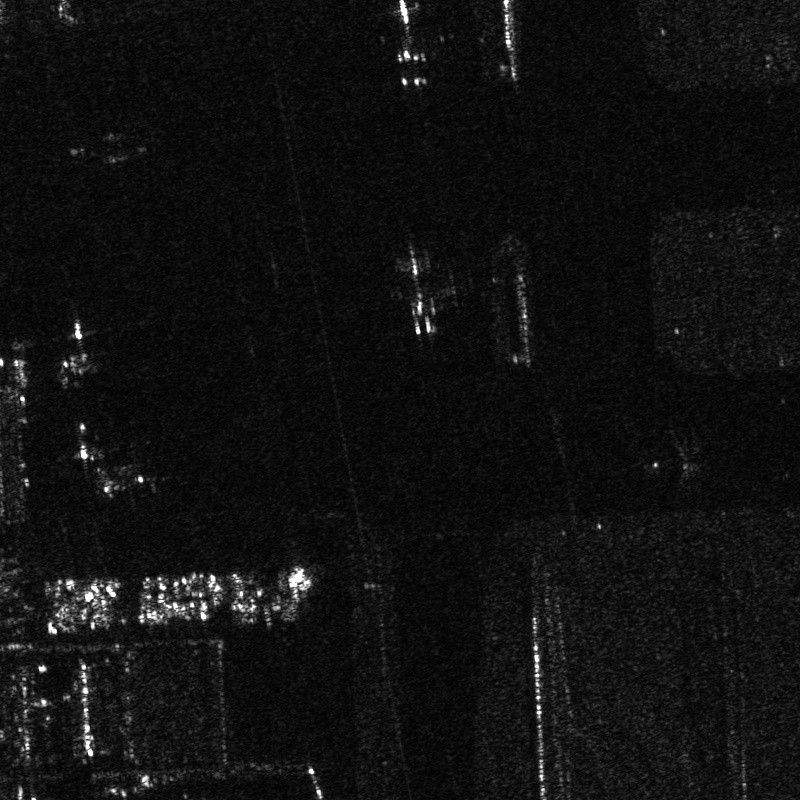A220: (50, 318, 102, 375), (61, 419, 107, 473)
other: (361, 251, 475, 335), (83, 469, 149, 503)
